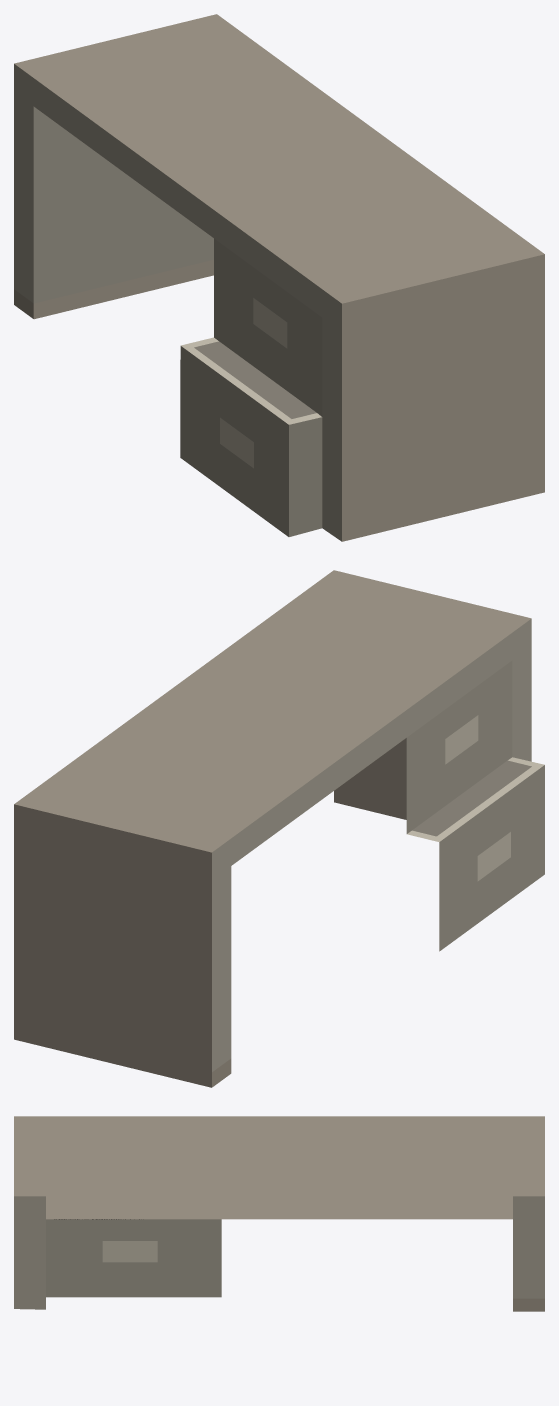
Rendered from MSH_QuestObject_table_03.fbx.
3 views of the same model, one above another, from view 1: azimuth 30°, elevation 25°; view 2: azimuth 150°, elevation 25°; view 3: azimuth 270°, elevation 25° (orthographic). The views are drawn at different scales.
Visible parts, largest first — view 1: MSH_QuestObject_table_03; view 2: MSH_QuestObject_table_03; view 3: MSH_QuestObject_table_03.
Part boxes in pixels (x1,y1,x2,y2): MSH_QuestObject_table_03: [14, 14, 544, 541]; MSH_QuestObject_table_03: [14, 570, 544, 1087]; MSH_QuestObject_table_03: [14, 1116, 544, 1311].
Bounding box in the file's own units: 1.34 × 1.3 × 3.22.
